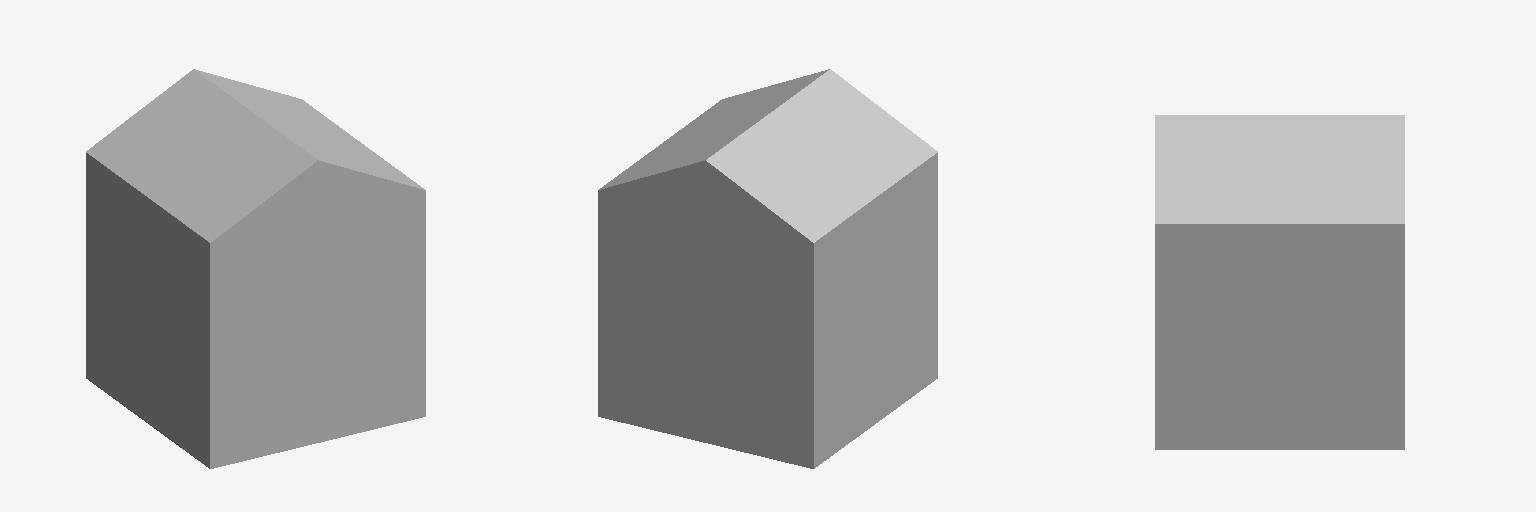
Rendered from house.obj.
3 views of the same model, side by side, from view 1: azimuth 30°, elevation 25°; view 2: azimuth 150°, elevation 25°; view 3: azimuth 270°, elevation 25° (orthographic).
Bounding box in the file's own units: 1 × 1.25 × 1.